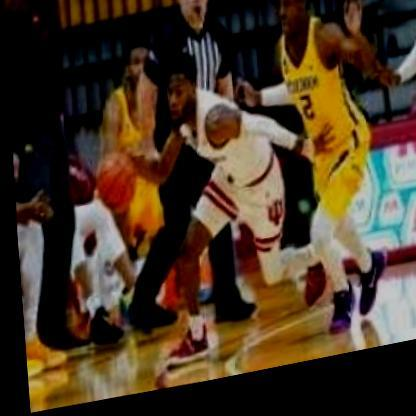basketball: (91, 148, 135, 224)
